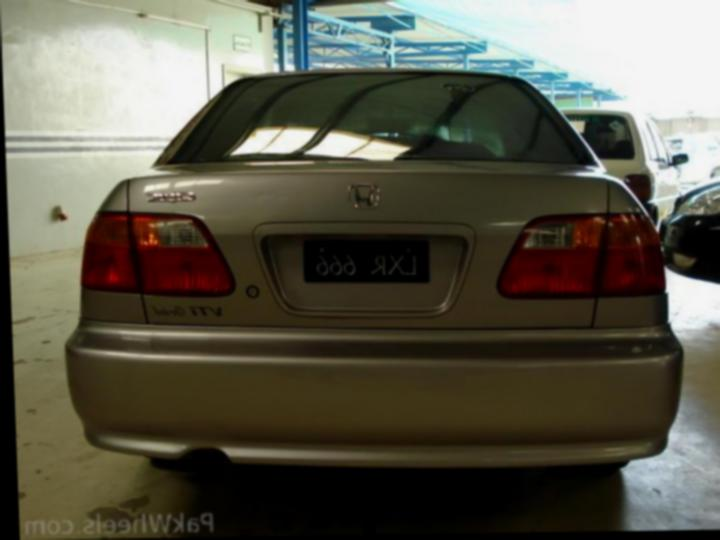License_Plate: (293, 233, 440, 289)
